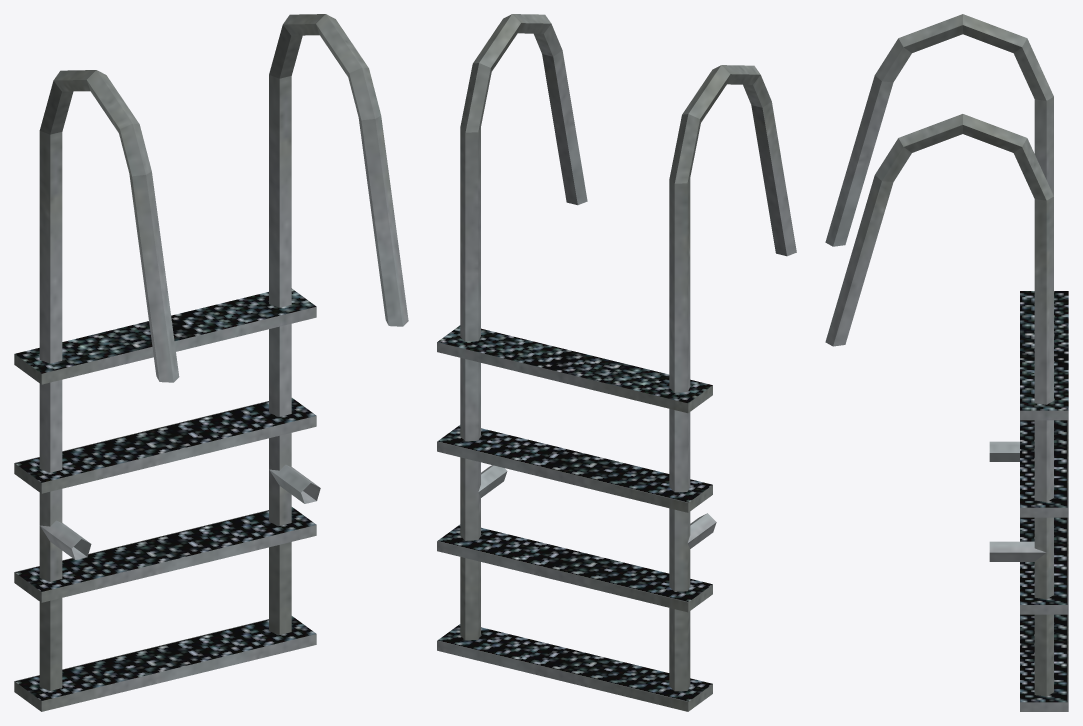
The model's file is Pool01_Ladder02.obj.
The picture shows the model from 3 angles, left to right: view 1: azimuth 30°, elevation 25°; view 2: azimuth 150°, elevation 25°; view 3: azimuth 270°, elevation 25°; orthographic projection. The views are drawn at different scales.
Visible parts, largest first — view 1: Pool01_Ladder02; view 2: Pool01_Ladder02; view 3: Pool01_Ladder02.
Boxes of the visible parts, x1=… form: Pool01_Ladder02: x1=14, y1=14, x2=408, y2=711; Pool01_Ladder02: x1=437, y1=14, x2=796, y2=711; Pool01_Ladder02: x1=825, y1=14, x2=1068, y2=711.
Bounding box in the file's own units: 1.32 × 3.02 × 1.13.
